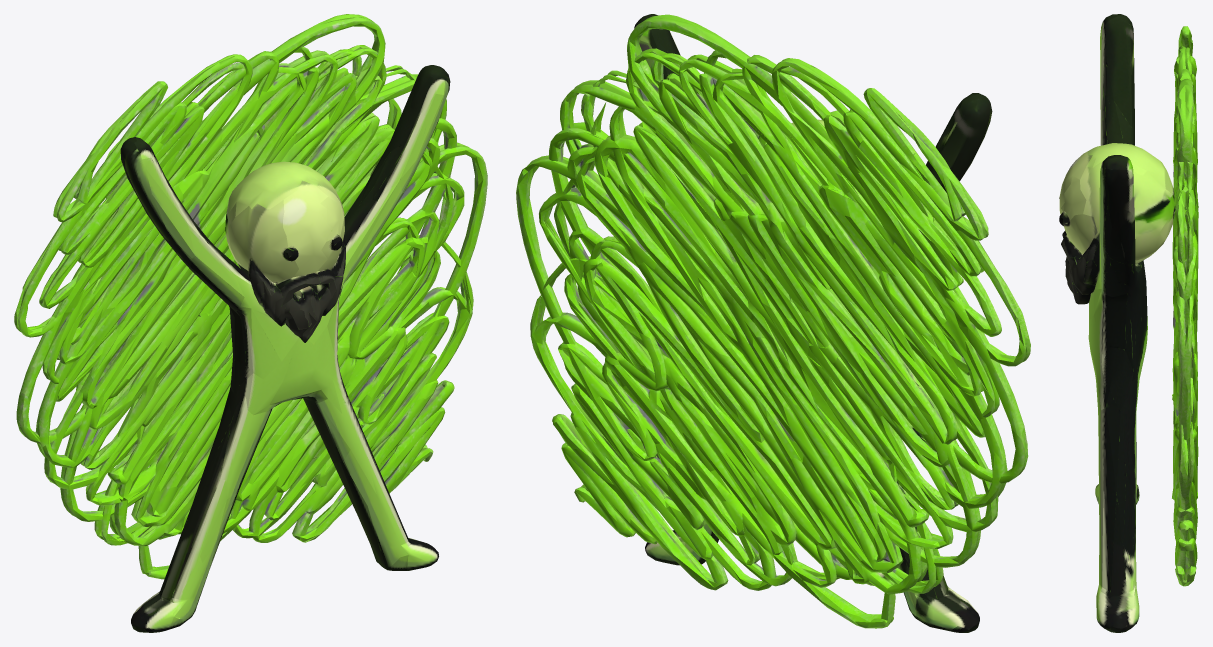
Rendered from helper3_green.glb.
The picture shows the model from 3 angles, left to right: view 1: azimuth 30°, elevation 25°; view 2: azimuth 150°, elevation 25°; view 3: azimuth 270°, elevation 25°; orthographic projection. The views are drawn at different scales.
Parts seen in each view (by area): view 1: Mesh_0; view 2: Mesh_0; view 3: Mesh_0.
Boxes of the visible parts, x1=… form: Mesh_0: x1=14, y1=14, x2=487, y2=632; Mesh_0: x1=516, y1=14, x2=1030, y2=632; Mesh_0: x1=1059, y1=14, x2=1198, y2=632.
Bounding box in the file's own units: 1.76 × 1.9 × 0.4666.
Materials: 1 (1 with a texture image).
